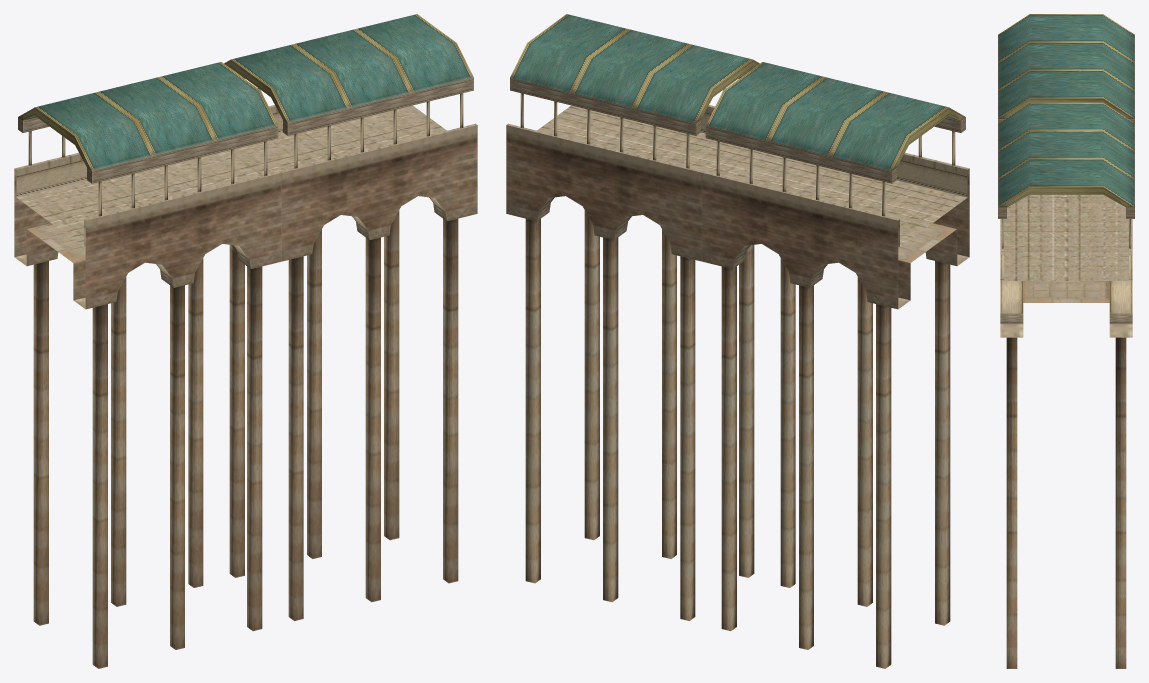
Rendered from thm_nboo_imprv_enclosed_walkway_s02_l2.fbx.
3 views of the same model, side by side, from view 1: azimuth 30°, elevation 25°; view 2: azimuth 150°, elevation 25°; view 3: azimuth 270°, elevation 25° (orthographic). The views are drawn at different scales.
Parts seen in each view (by area): view 1: mesh_node; view 2: mesh_node; view 3: mesh_node.
Part boxes in pixels (x1=…): mesh_node: x1=14, y1=14, x2=477, y2=668; mesh_node: x1=506, y1=14, x2=969, y2=668; mesh_node: x1=998, y1=14, x2=1134, y2=668.
Size of the model in its own units: 16.5 by 21.18 by 5.39.
